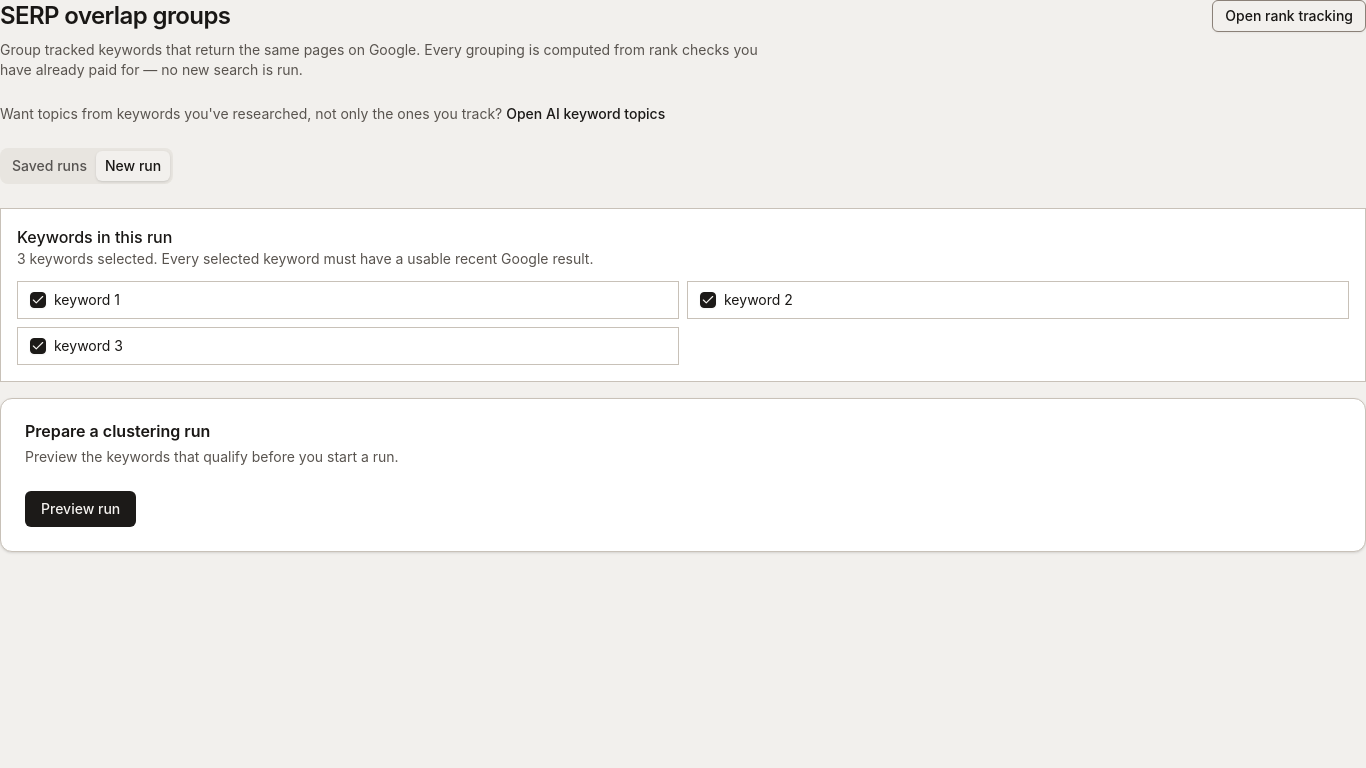
KeywordClustersPage › maps a 409 on start to the not-enough-keywords state
Click the button with test id "keyword-clusters-preview-button" at {"x": 81, "y": 509}, box [25,491,136,527]
(page scrolled)
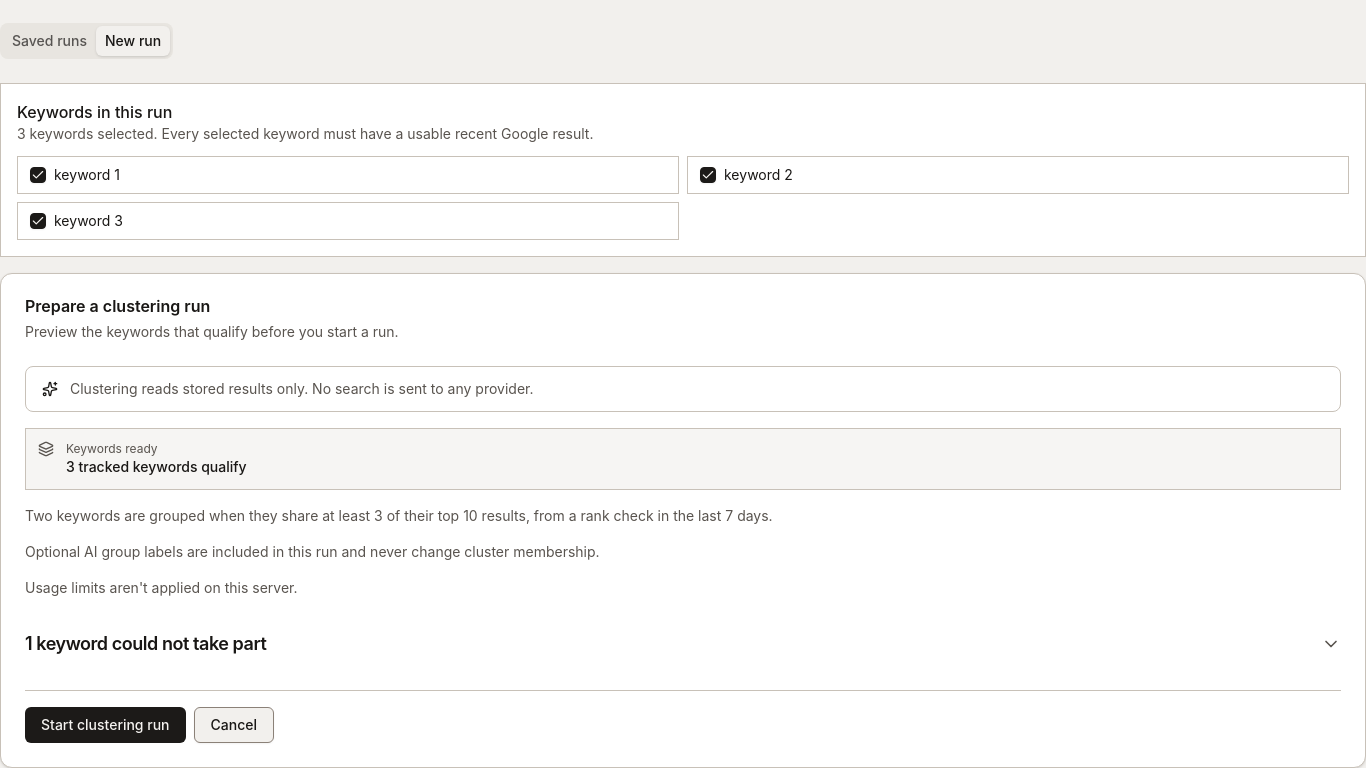
Click the button with test id "keyword-clusters-confirm" at {"x": 105, "y": 725}, box [25,707,186,743]
(page scrolled)
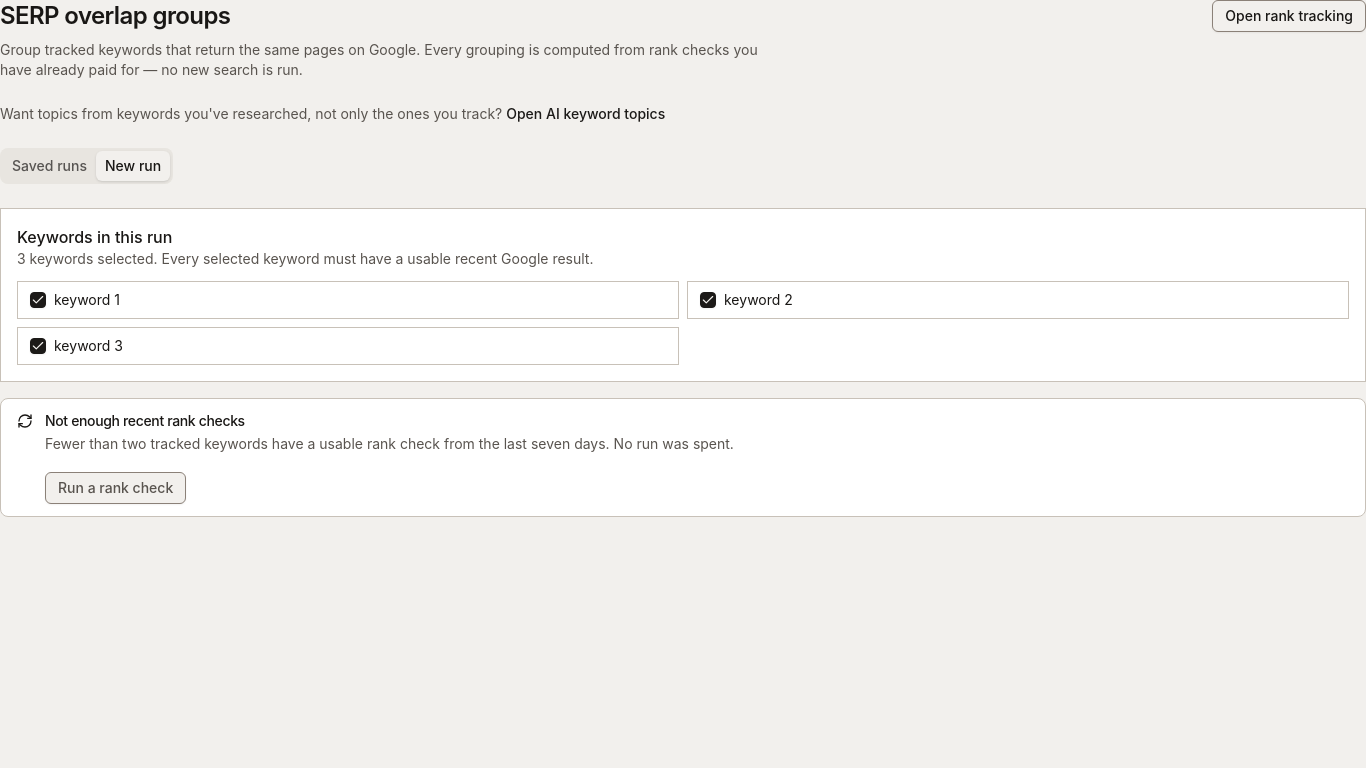
Expected: the message with test id "keyword-clusters-state-notEnoughKeywords" is shown, [0,398,1365,517]
